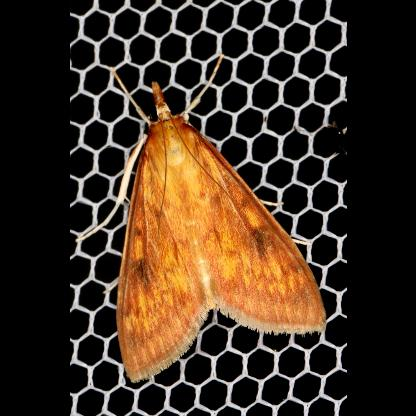Asian Corn Borer Moth: (70, 51, 330, 386)
